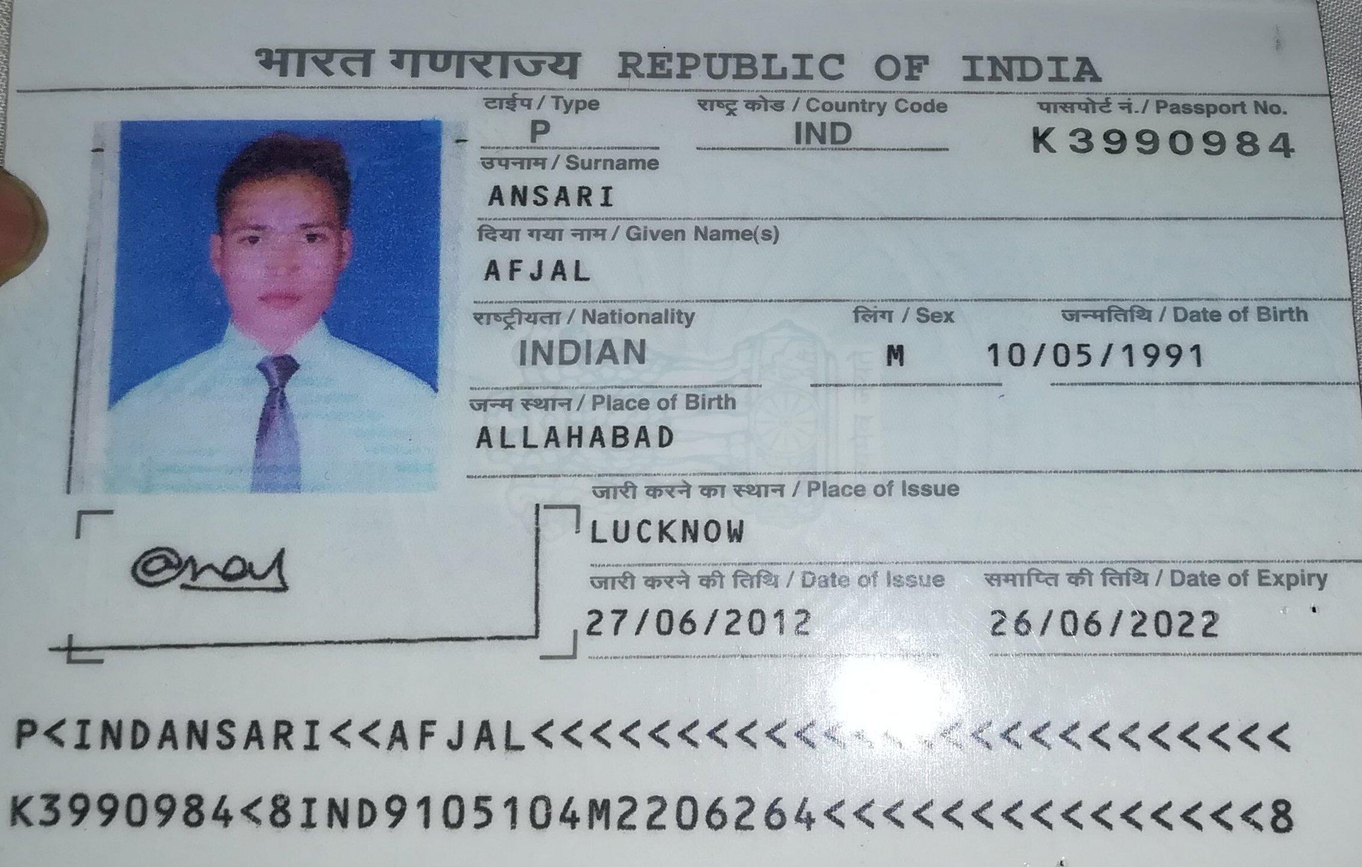DOB: (989, 321, 1294, 378)
Surname: (480, 170, 776, 222)
country_code: (764, 102, 891, 162)
date_of_expiry: (963, 586, 1269, 654)
date_of_issue: (578, 583, 879, 659)
details: (11, 671, 1352, 849)
name: (470, 238, 703, 300)
nationality: (491, 318, 733, 377)
passport_no: (1009, 111, 1316, 185)
photo: (111, 121, 443, 488)
place_of_birth: (456, 402, 736, 464)
place_of_issue: (584, 489, 919, 566)
sex: (847, 323, 980, 374)
sign: (100, 514, 480, 625)
type: (497, 99, 612, 149)
